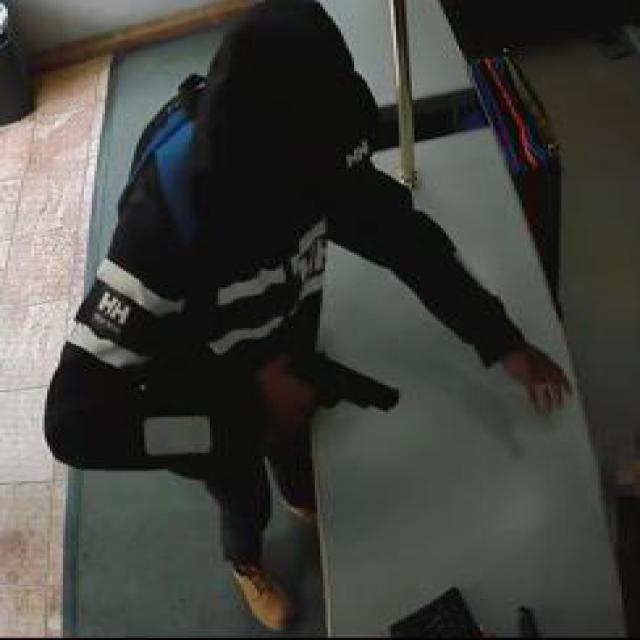Gun: (252, 337, 396, 421)
